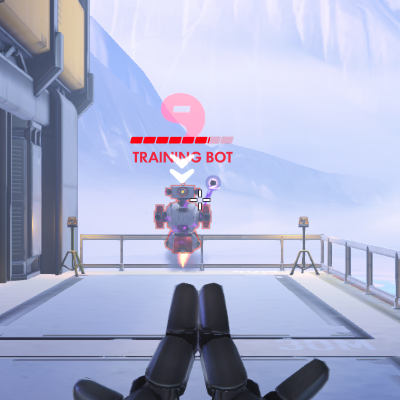hpbar: (129, 136, 234, 144)
